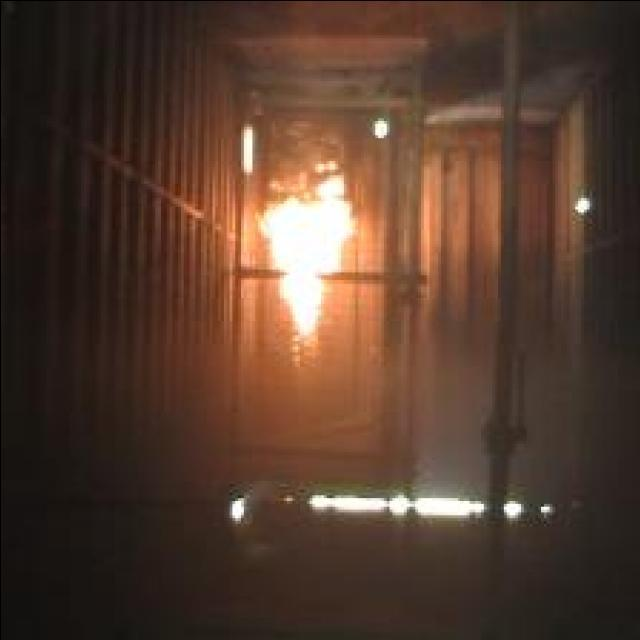Fire: (256, 173, 356, 341)
